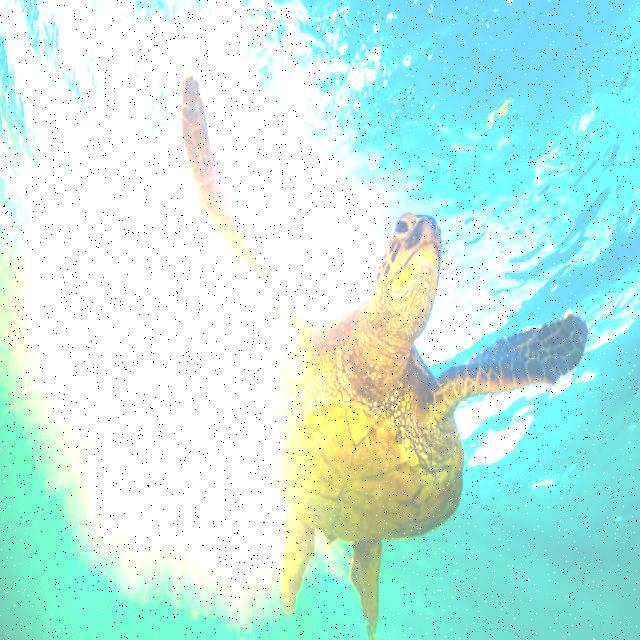tortoise: (166, 67, 593, 640)
